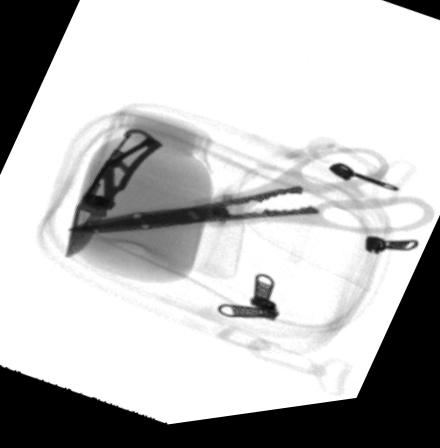Knife: (64, 129, 165, 260)
Scissors: (68, 157, 432, 244)
